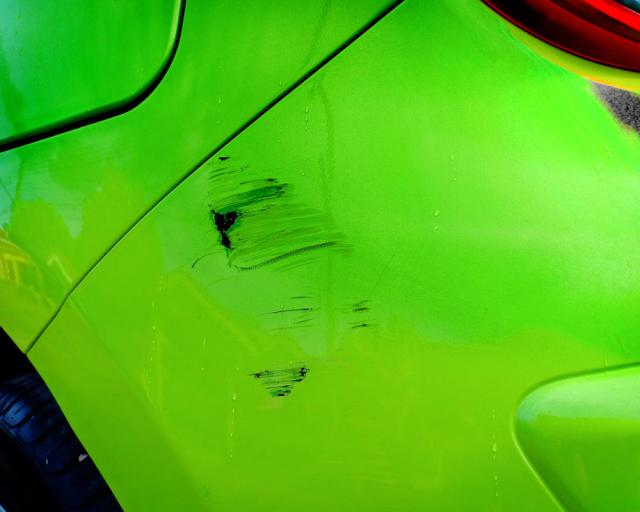scratch: (195, 154, 380, 406)
